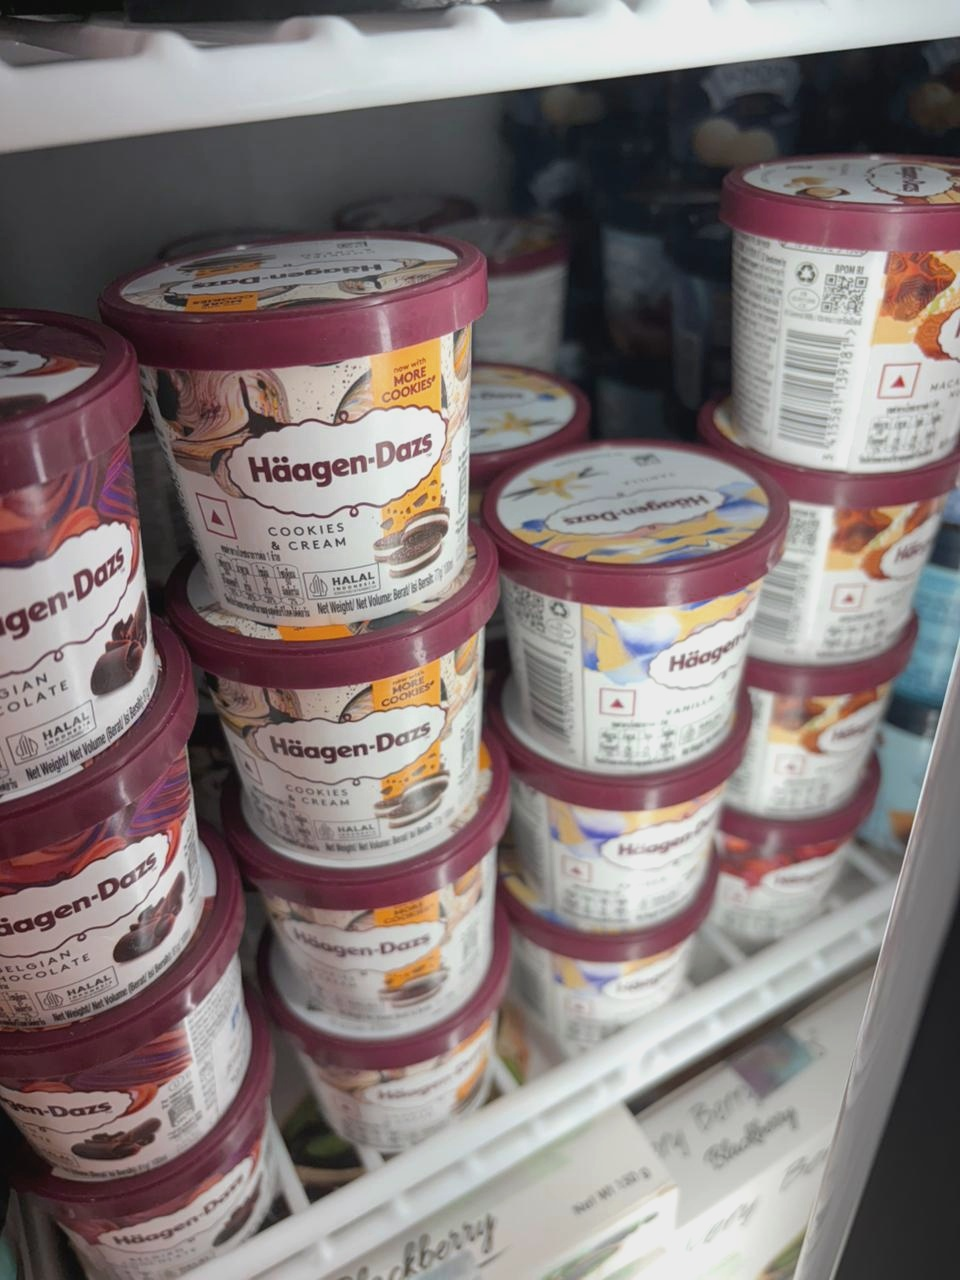Haagen-Dazs IceCream Tub: (93, 226, 503, 617), (487, 423, 779, 774), (214, 558, 496, 895), (721, 138, 960, 479), (0, 405, 201, 790), (256, 784, 498, 1035), (0, 747, 205, 1040), (705, 394, 931, 648), (0, 968, 265, 1175), (487, 714, 730, 937), (734, 631, 890, 836)
